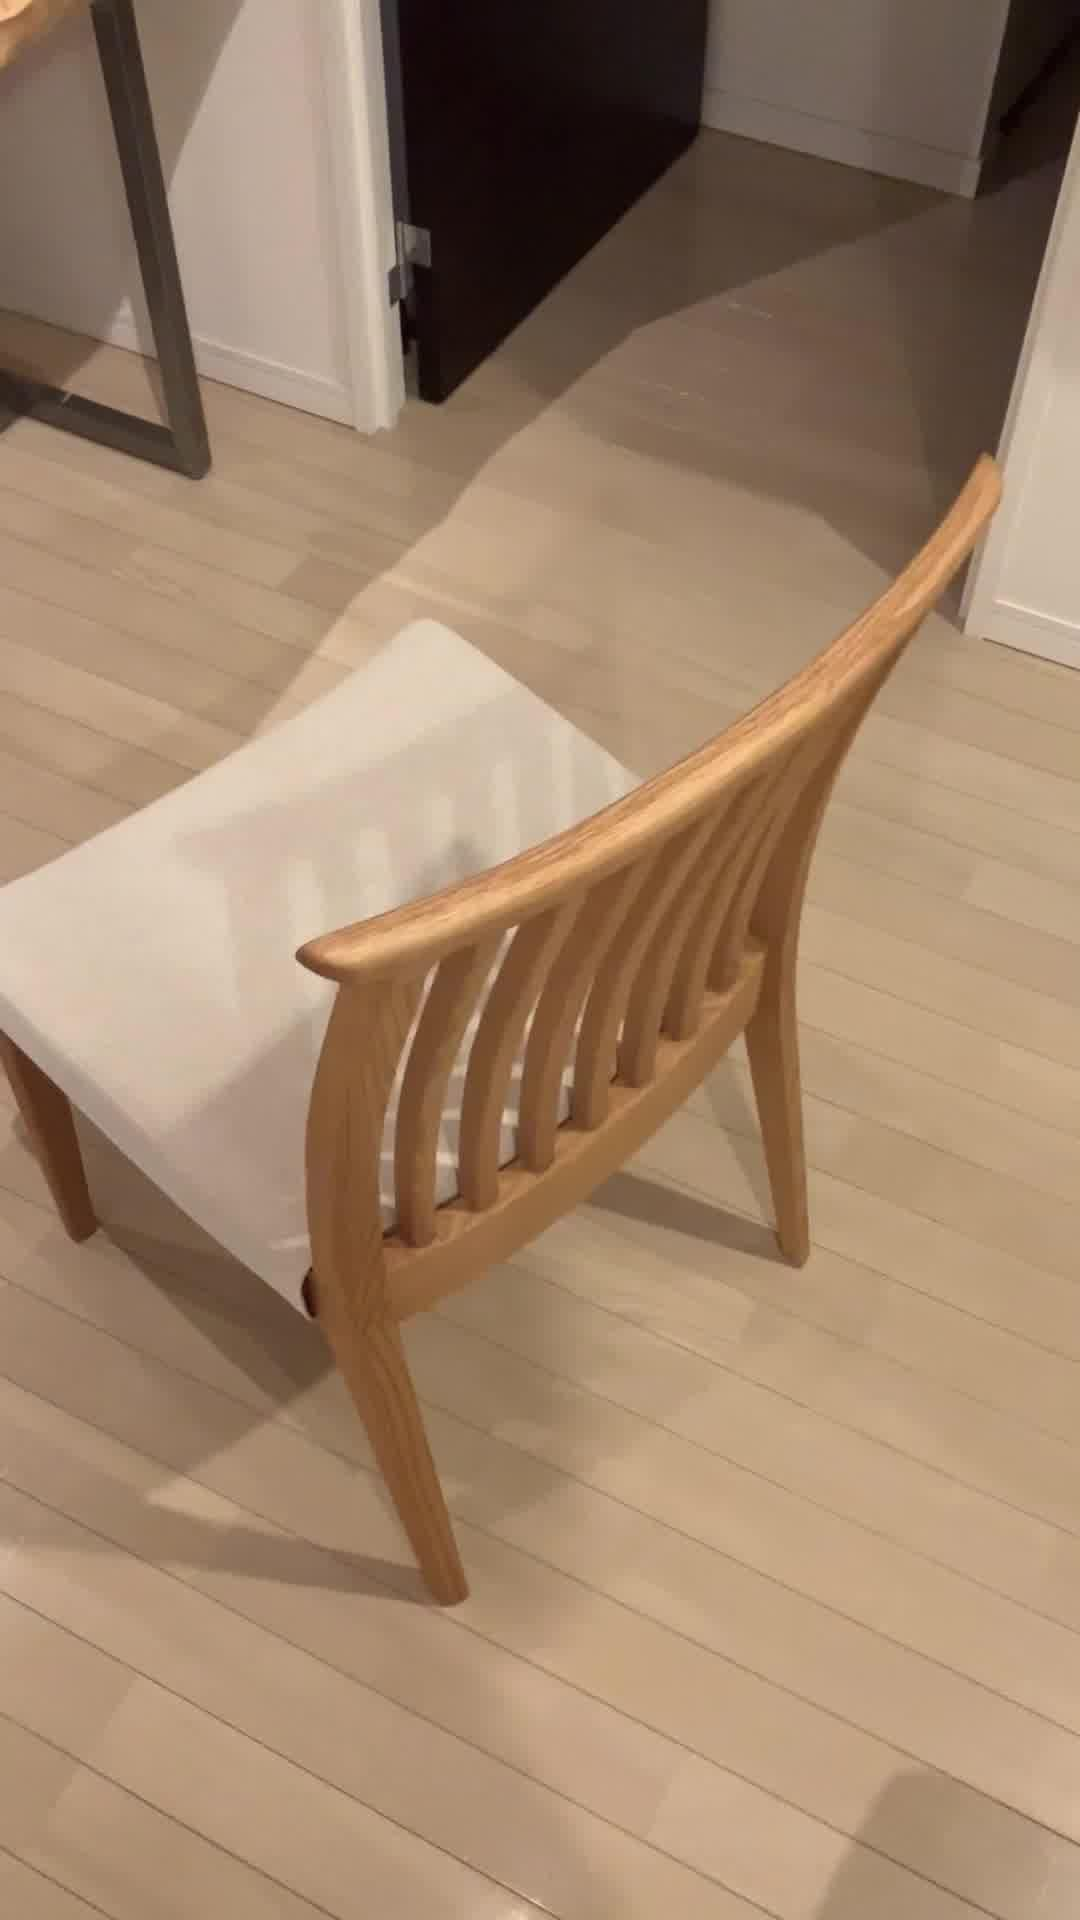takumikan-chair: (0, 448, 1001, 1614)
